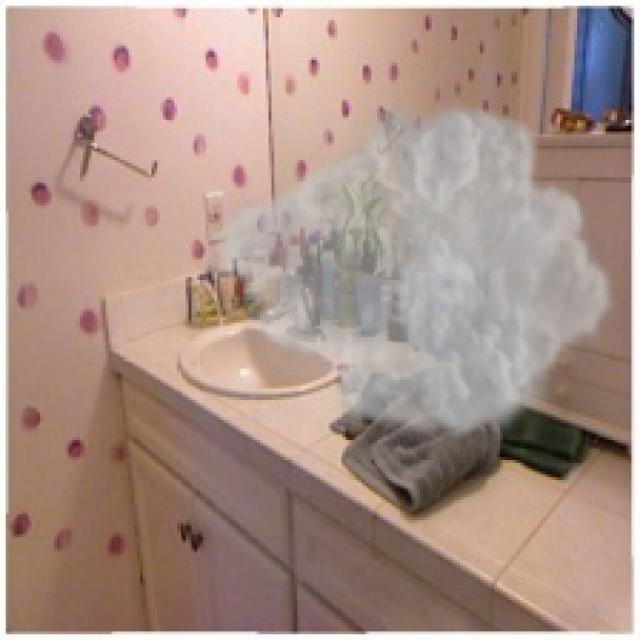Smoke: (205, 94, 618, 446)
